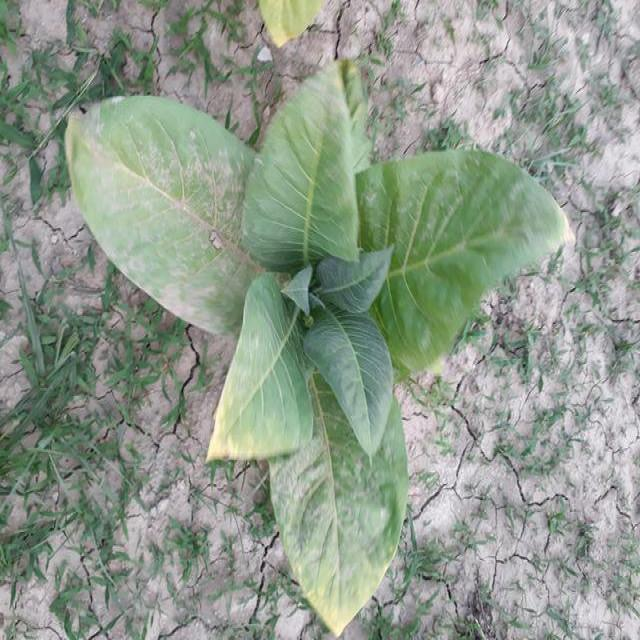crop: (55, 62, 579, 631)
